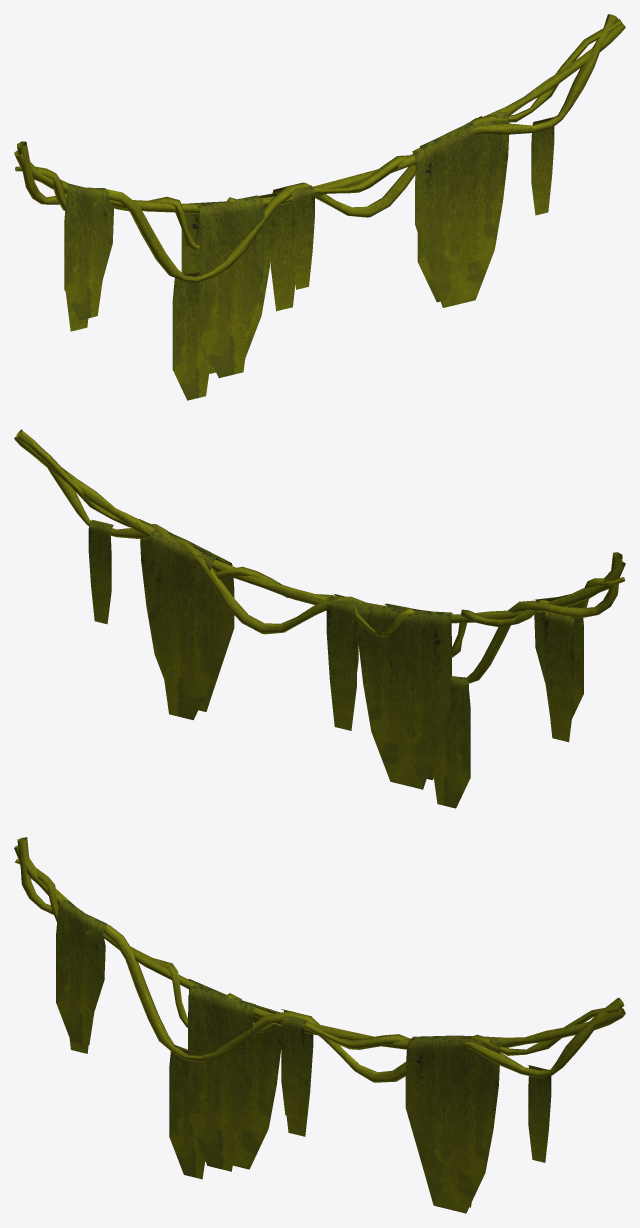
Rendered from HangingVine.fbx.
3 views of the same model, one above another, from view 1: azimuth 30°, elevation 25°; view 2: azimuth 150°, elevation 25°; view 3: azimuth 330°, elevation 25° (orthographic).
Parts seen in each view (by area): view 1: HangingVine; view 2: HangingVine; view 3: HangingVine.
Part boxes in pixels (left/top/right/bottom): HangingVine: left=14, top=14, right=625, bottom=400; HangingVine: left=14, top=429, right=625, bottom=808; HangingVine: left=14, top=837, right=625, bottom=1213.
Bounding box in the file's own units: 1601 × 743 × 68.27.
